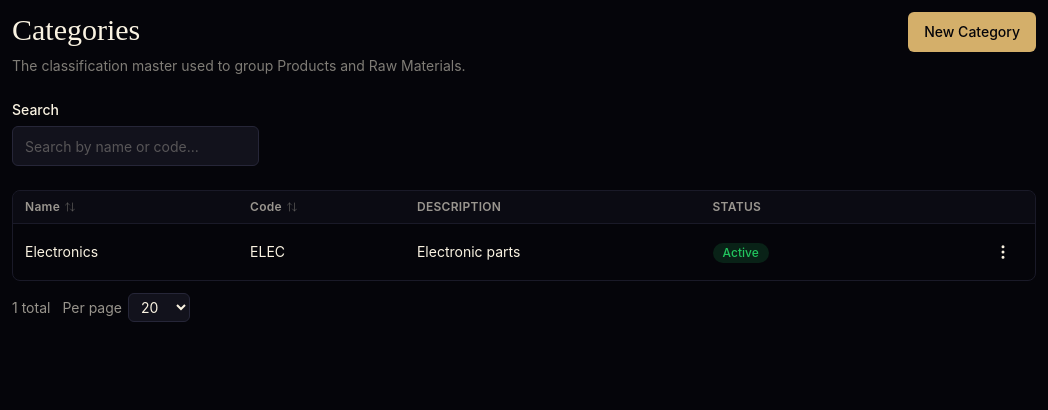
Test: CategoriesPage › creating a category shows a server-side field/name conflict as a form error
The width and height of the screenshot is (1048, 410).
Check: the text "Electronics" is shown, box [13,224,238,280]
Click the button "New Category".
click(972, 32)  # box [908,12,1036,52]
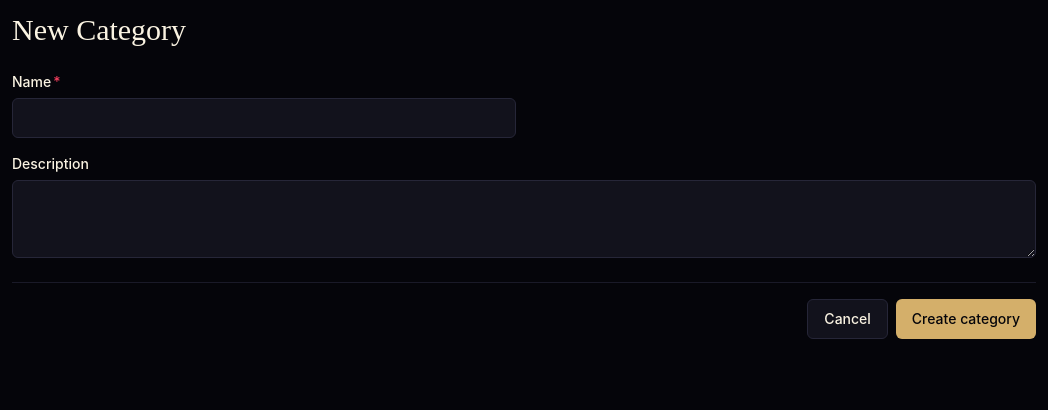
Type "Electronics" into the field labelled "Name".
click(264, 118); type("Electronics")  # box [12,98,516,138]
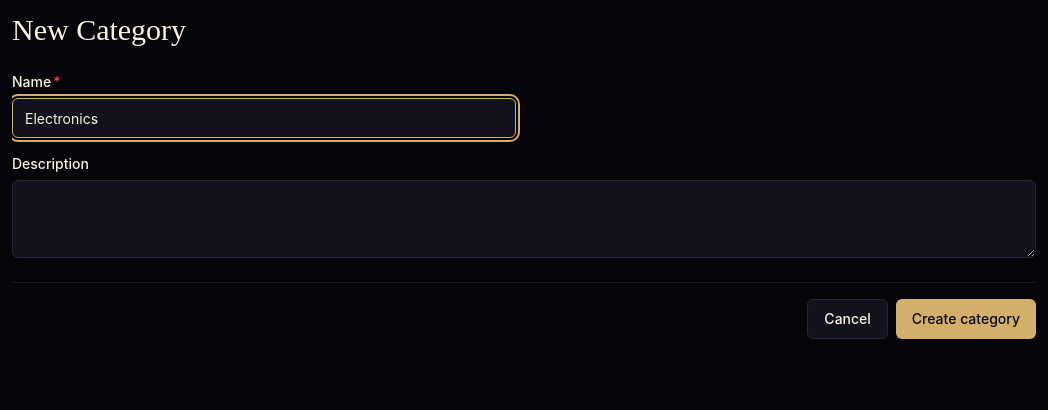
Click the button "Create category".
click(966, 319)  # box [896,299,1036,339]
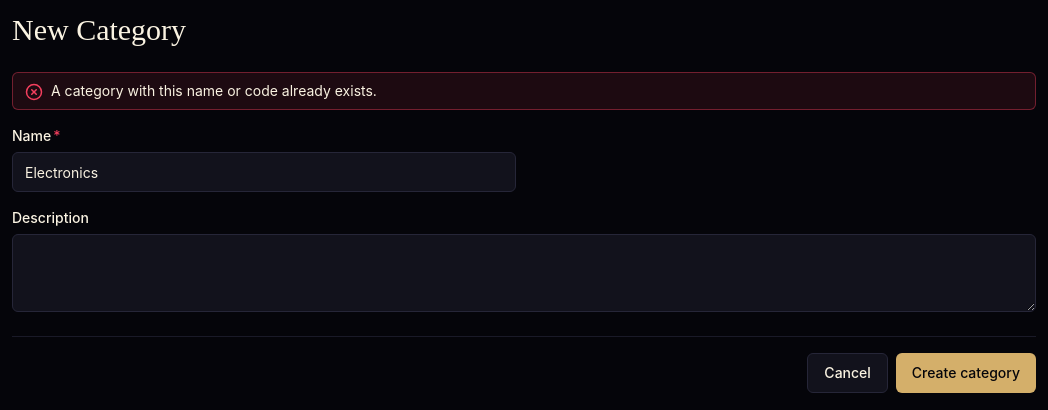
Check: the text "A category with this name or code already exists." is shown, box [51,81,377,101]
